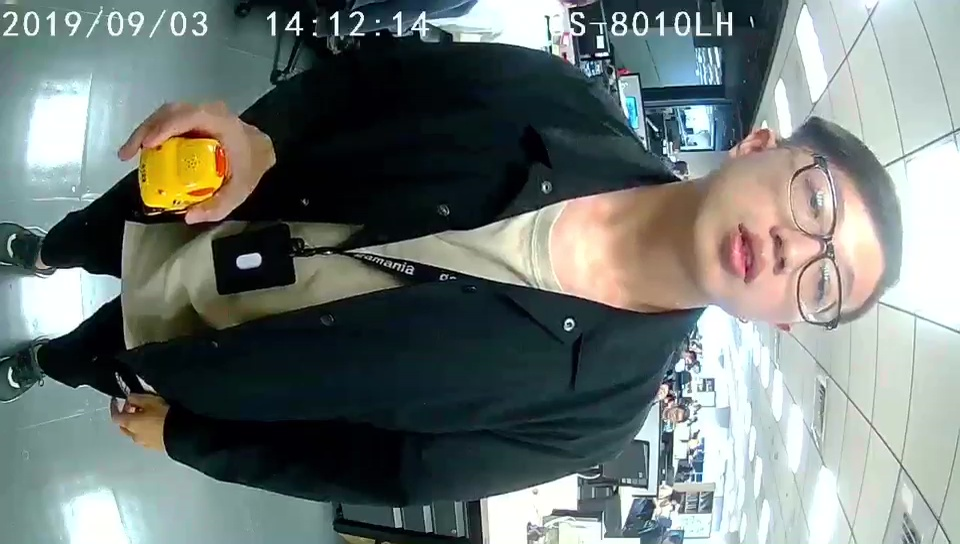car: (139, 138, 229, 209)
